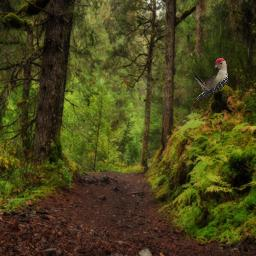Woodpecker: (195, 58, 228, 101)
